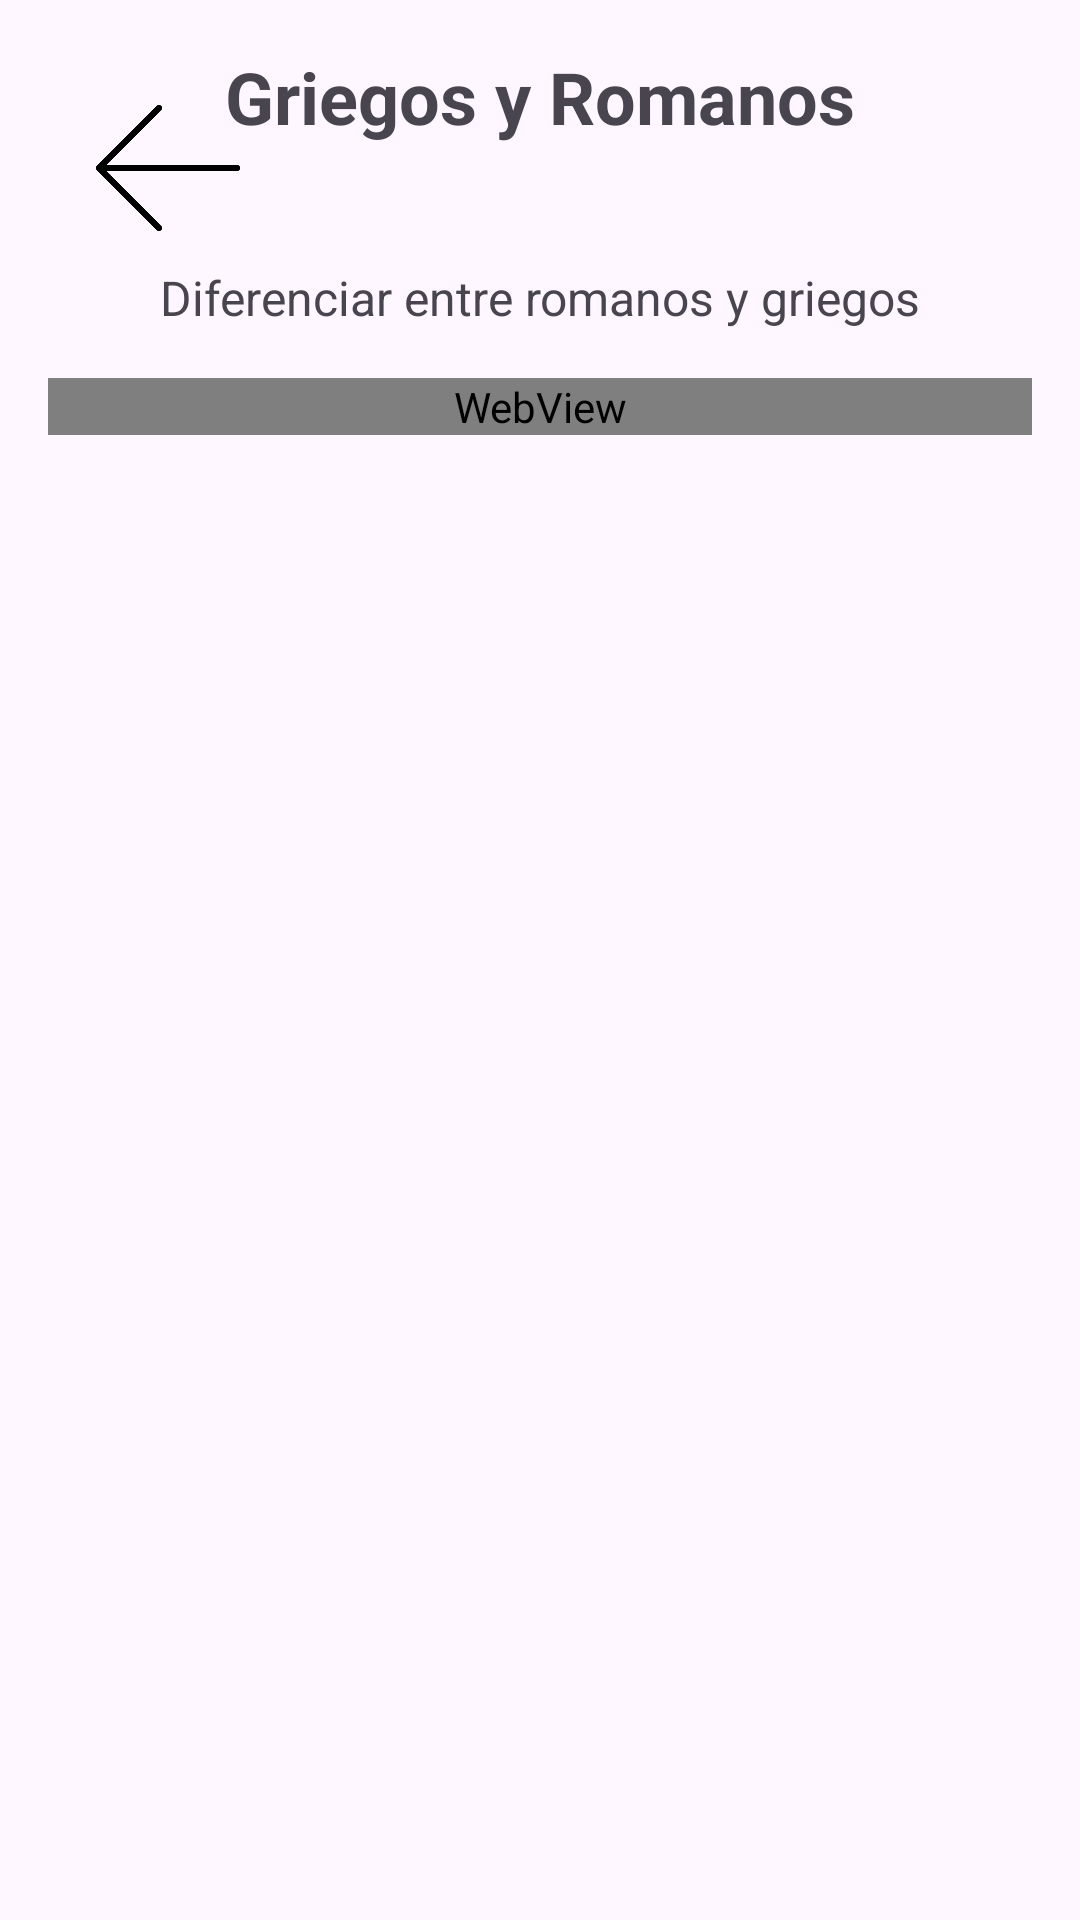

Icons on this 1080 x 1920 Android screen, each with the point to tap as [x,y]:
Botón de volver: [168,168]
